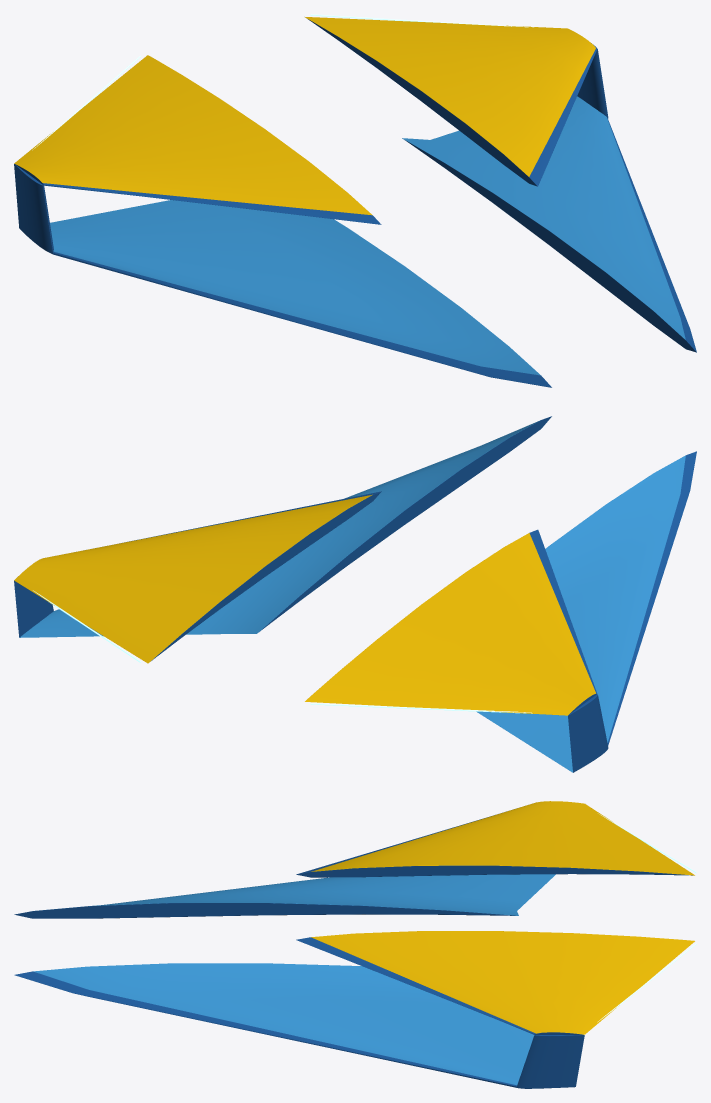
Rendered from strix_wing_lg.fbx.
3 renders of one model, top to bottom at view 1: azimuth 30°, elevation 25°; view 2: azimuth 150°, elevation 25°; view 3: azimuth 270°, elevation 25°, orthographic. The views are drawn at different scales.
Visible parts, largest first — view 1: Wing_Box_L, Wing_Box_R; view 2: Wing_Box_L, Wing_Box_R; view 3: Wing_Box_R, Wing_Box_L.
Boxes of the visible parts, <box> form: Wing_Box_L: <box>14,55,551,387</box>; Wing_Box_R: <box>305,14,696,352</box>; Wing_Box_L: <box>305,451,696,772</box>; Wing_Box_R: <box>14,416,551,663</box>; Wing_Box_R: <box>14,931,696,1088</box>; Wing_Box_L: <box>14,801,696,918</box>.
Size of the model in its own units: 326 by 48.7 by 402.
